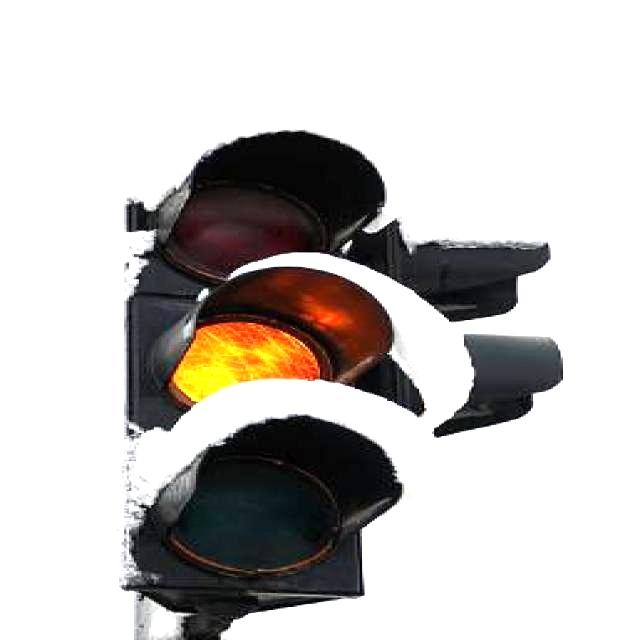Yellow: (130, 174, 362, 598)
